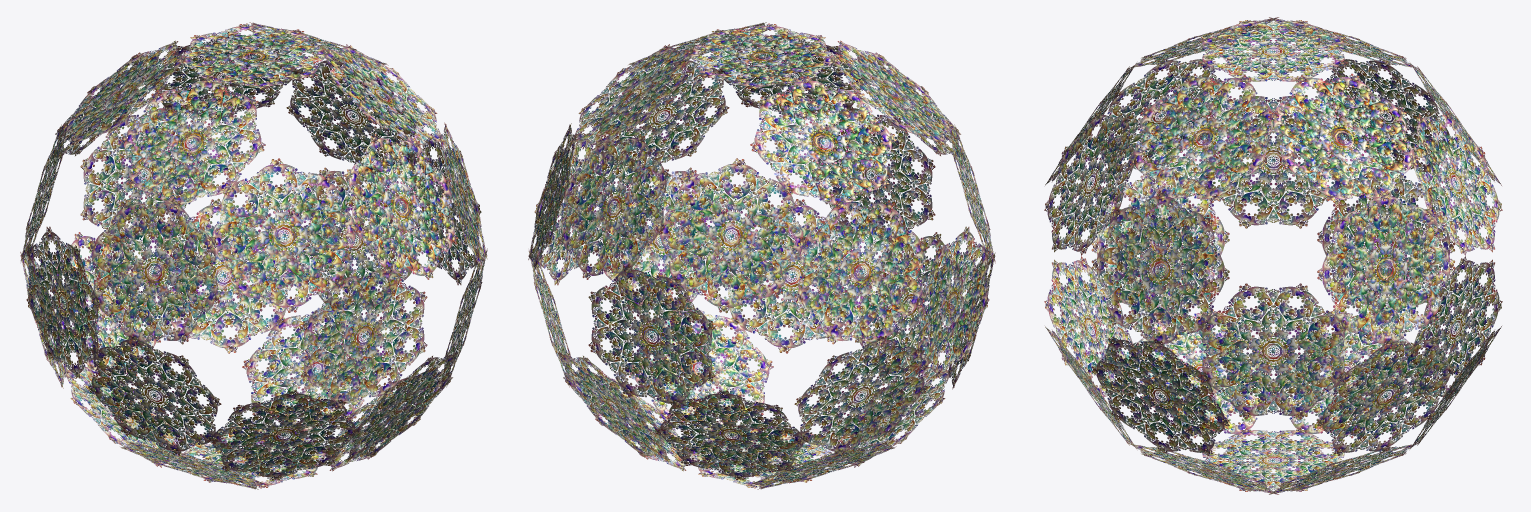
File: TruncatedDodecadodecahedron.gltf
3 views of the same model, side by side, from view 1: azimuth 30°, elevation 25°; view 2: azimuth 150°, elevation 25°; view 3: azimuth 270°, elevation 25° (orthographic). The views are drawn at different scales.
Visible parts, largest first — view 1: 1TruncatedDodecadodecahedron; view 2: 1TruncatedDodecadodecahedron; view 3: 1TruncatedDodecadodecahedron.
Boxes of the visible parts, x1=… form: 1TruncatedDodecadodecahedron: x1=20, y1=22, x2=487, y2=489; 1TruncatedDodecadodecahedron: x1=528, y1=22, x2=995, y2=489; 1TruncatedDodecadodecahedron: x1=1044, y1=17, x2=1502, y2=494.
Size of the model in its own units: 3.24 by 3.24 by 3.24.
Materials: 1 (1 with a texture image).
